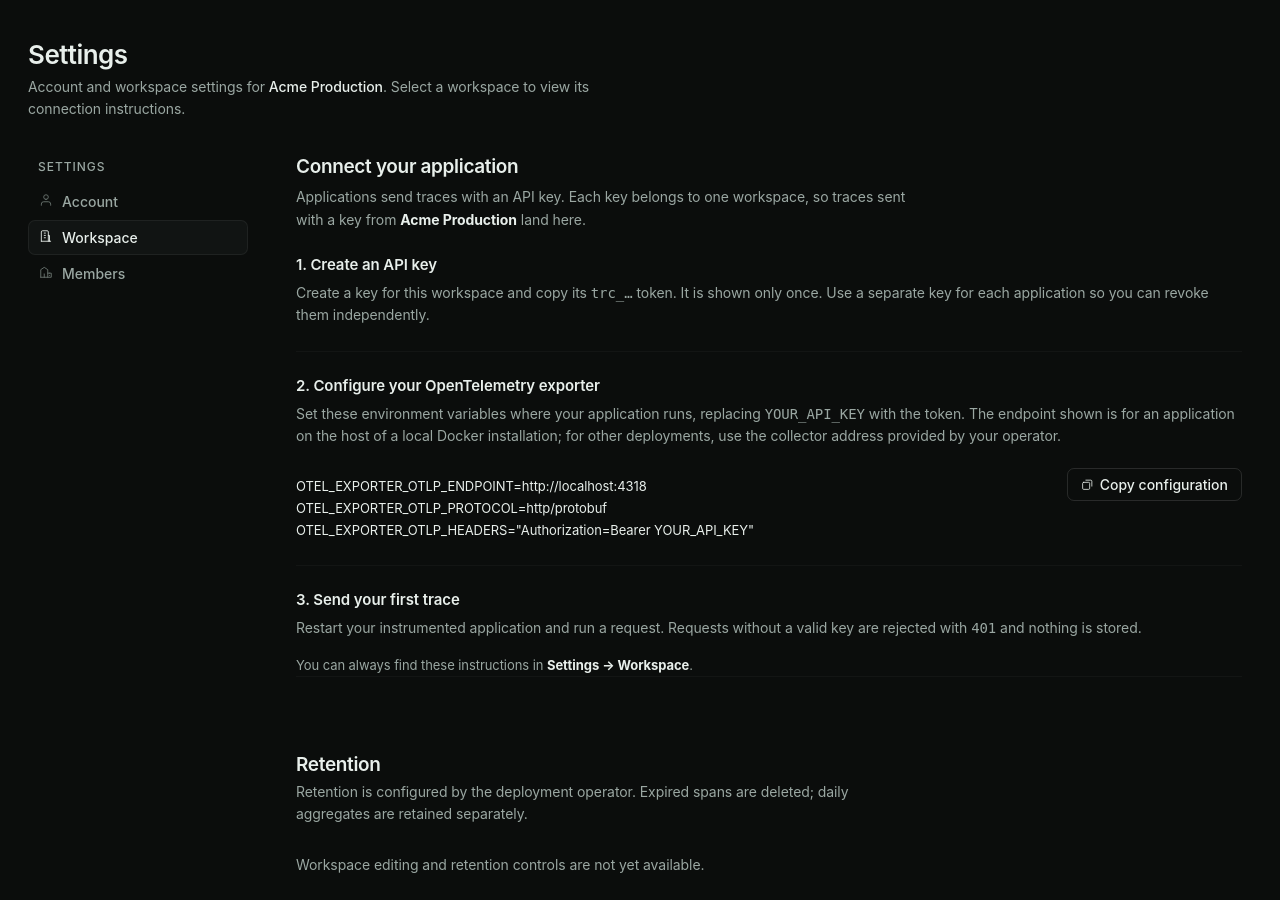
Test: members › shows the member limit when the workspace is full
Click the button "Members" at (138, 274), box [28, 256, 248, 291]
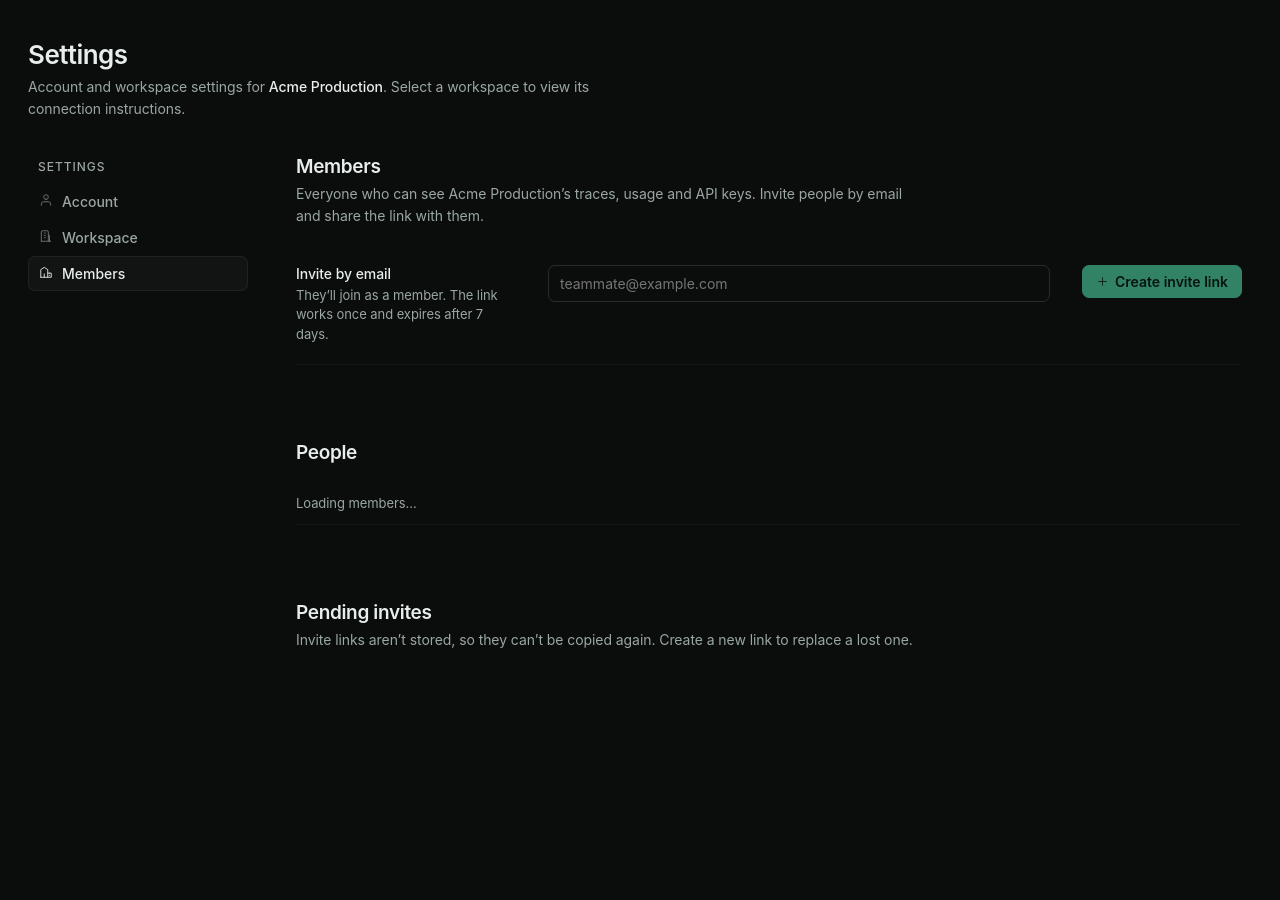
Type "dave@acme.dev" into the field named "Invite email" at (799, 283), box [560, 266, 1038, 301]
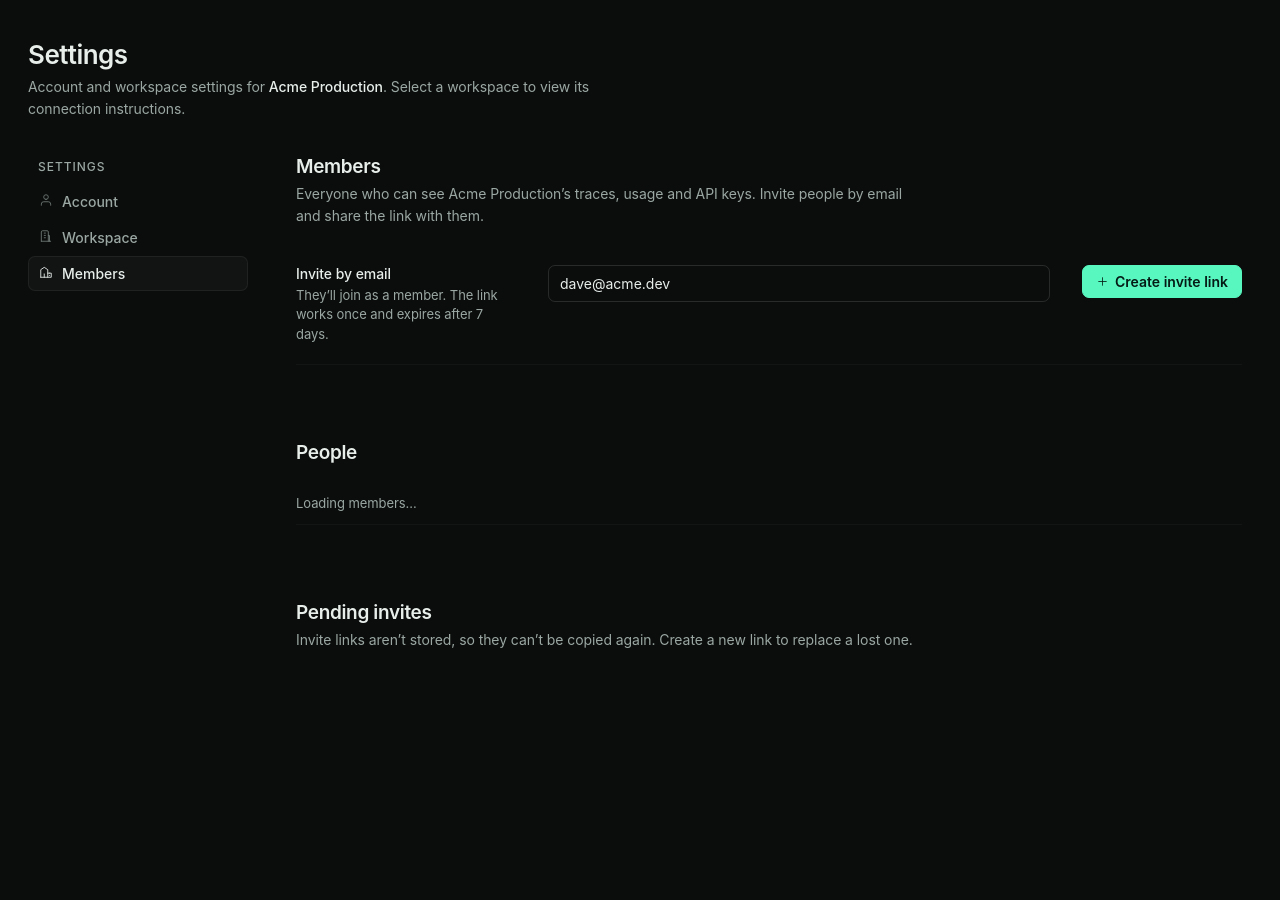
Click the button "Create invite link" at (1162, 281), box [1082, 265, 1242, 298]
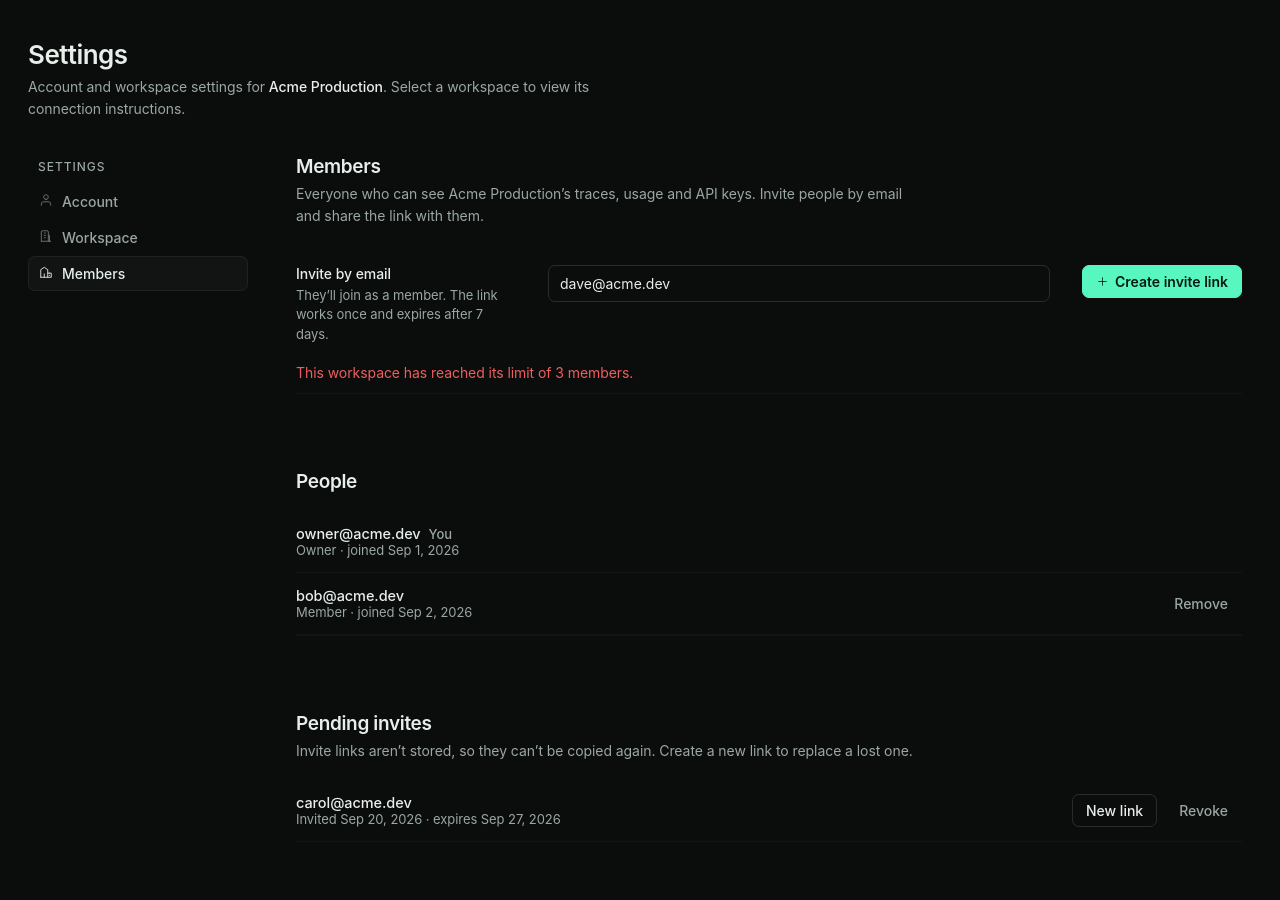
Expected: the message shows "limit of 3 members", [296, 364, 633, 381]
